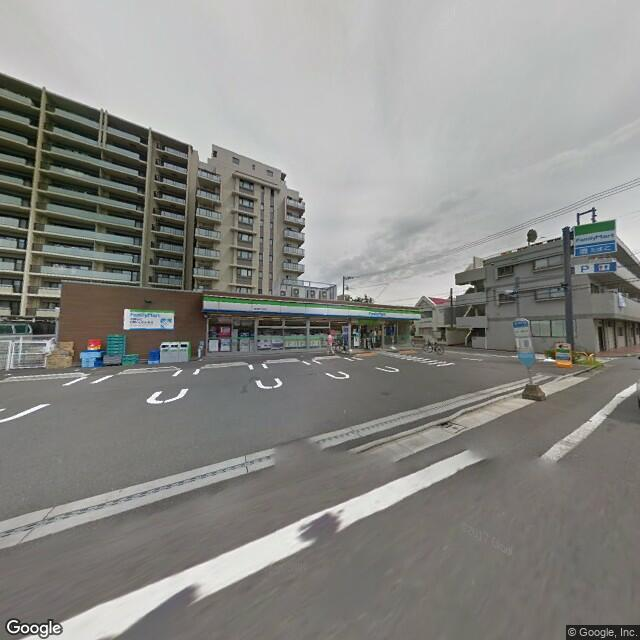family_mart: (201, 293, 422, 322), (573, 216, 617, 257), (126, 306, 161, 320)
